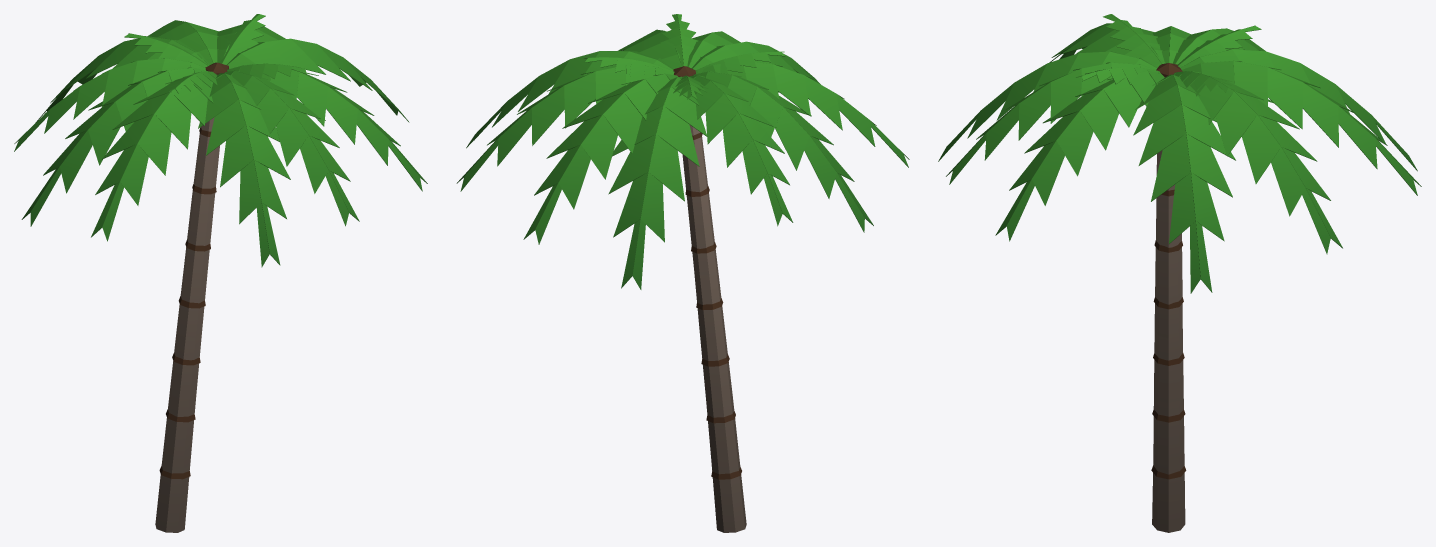
Rendered from tree_palm_02.fbx.
3 views of the same model, side by side, from view 1: azimuth 30°, elevation 25°; view 2: azimuth 150°, elevation 25°; view 3: azimuth 270°, elevation 25° (orthographic). The views are drawn at different scales.
Visible parts, largest first — view 1: tree_palm_02_LOD0; view 2: tree_palm_02_LOD0; view 3: tree_palm_02_LOD0.
Boxes of the visible parts, bbox=[...] form: tree_palm_02_LOD0: bbox=[14, 14, 427, 532]; tree_palm_02_LOD0: bbox=[456, 14, 909, 532]; tree_palm_02_LOD0: bbox=[938, 14, 1421, 532].
Size of what is drawn, in the model's own units: 6.48 by 7.38 by 6.47.
1 material, 1 textured.
